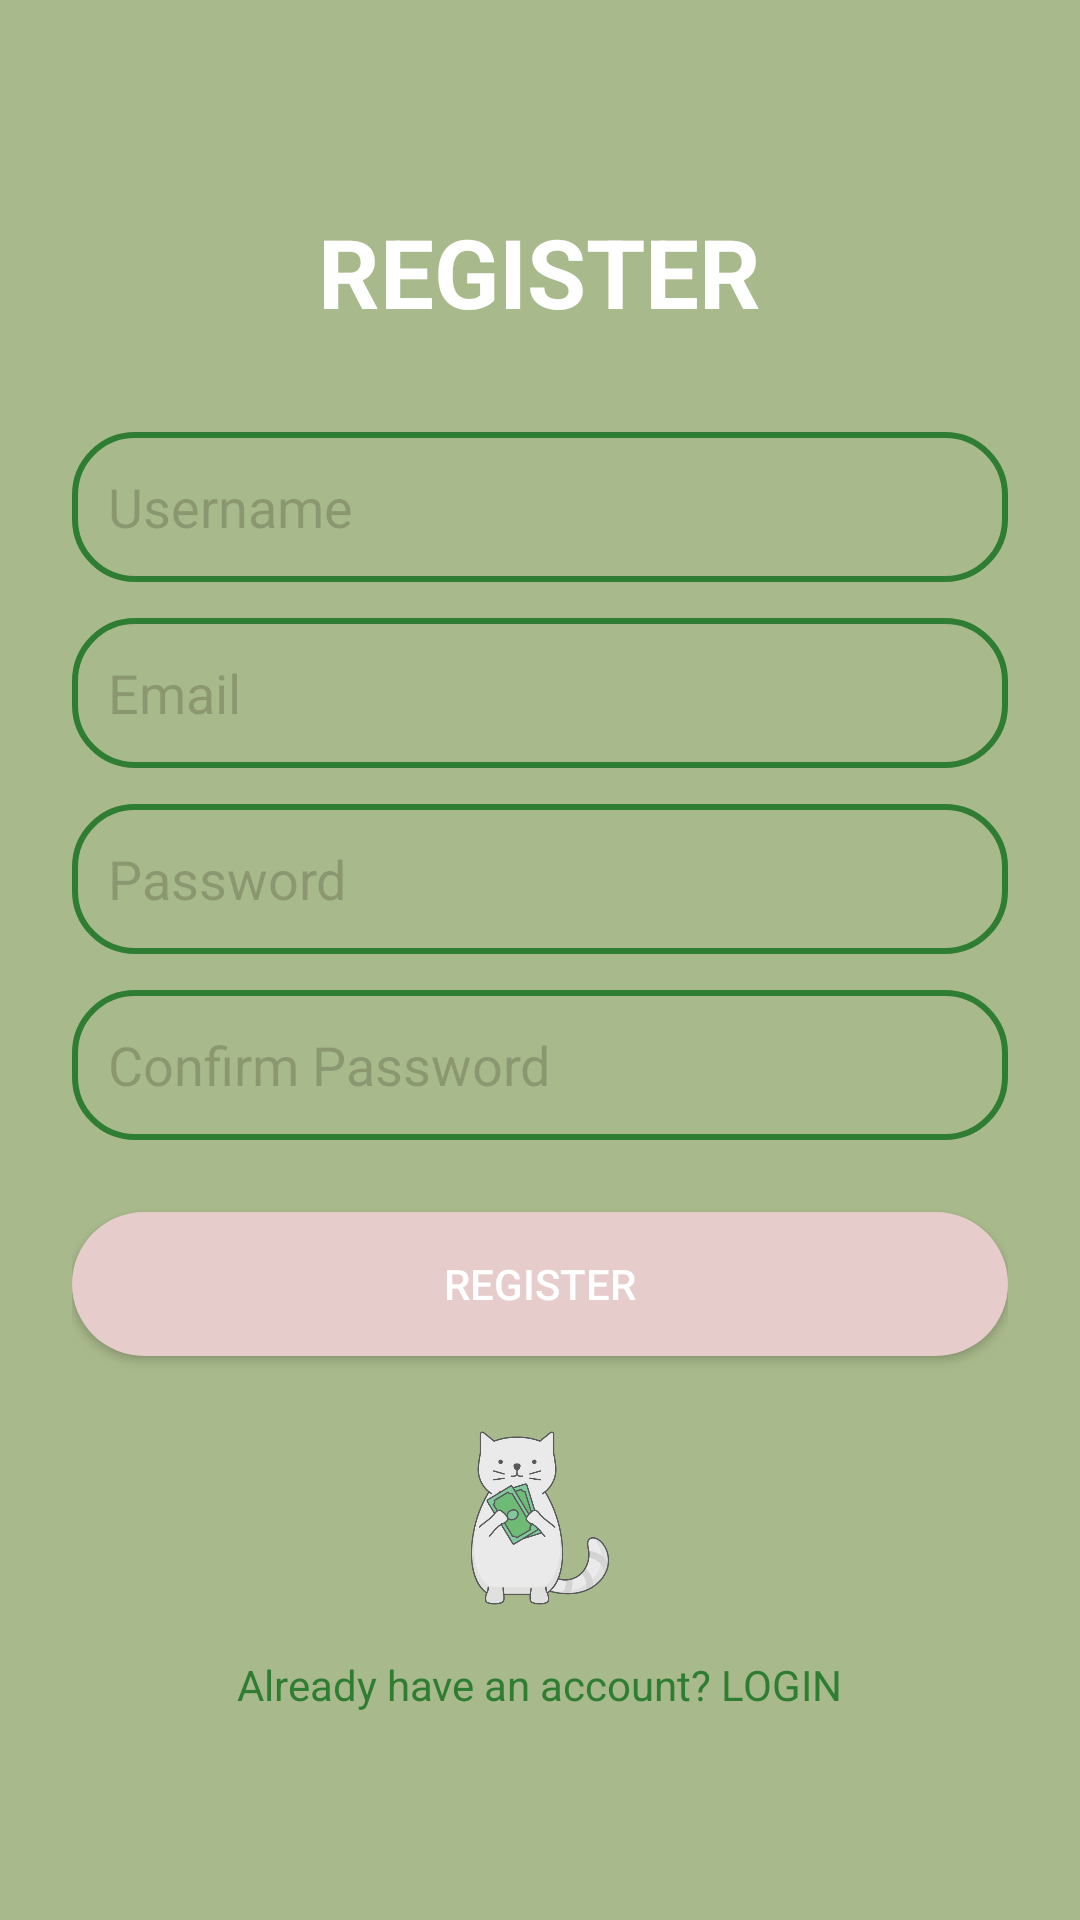

Locate icon controls on the screen. Image size 1080px×1920px, boxes as (x1, y1, x2, y2).
money: (471, 1431, 609, 1605)
